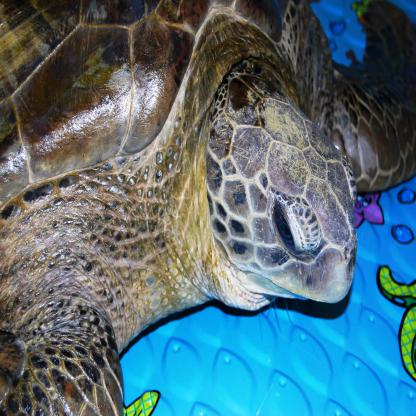turtle: (192, 68, 365, 322)
